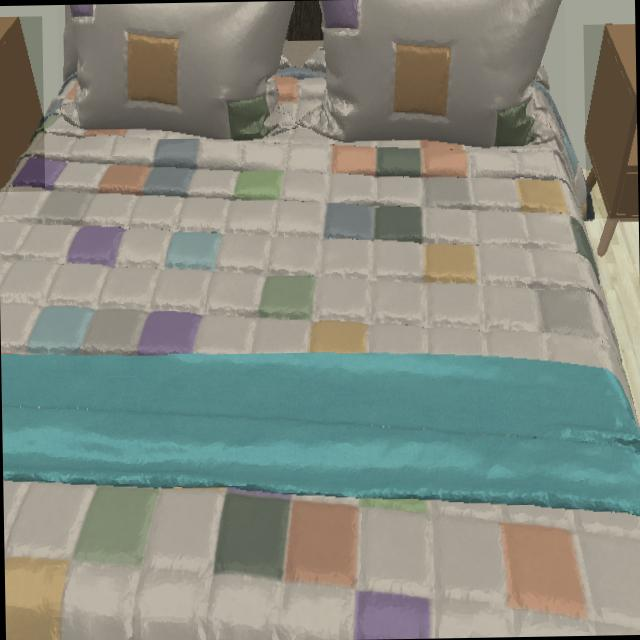bed: (0, 0, 640, 640)
nighttable: (585, 24, 638, 217), (0, 18, 43, 191)
pillow: (58, 0, 564, 146)
